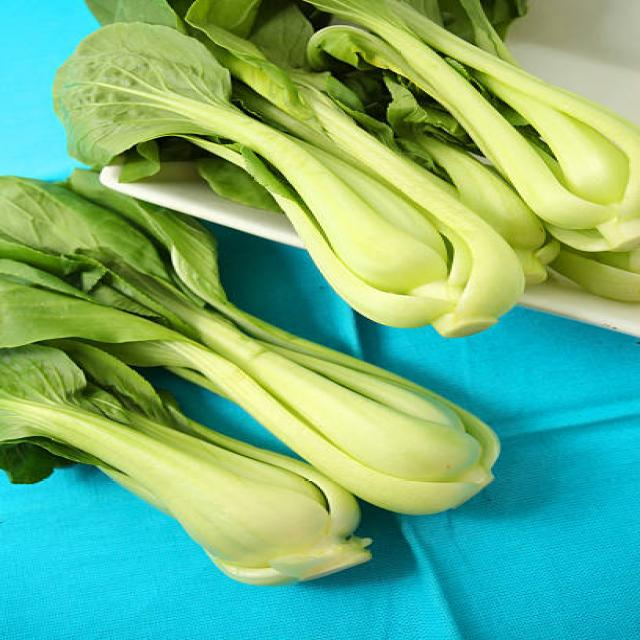Bok Choy: (209, 43, 482, 350), (228, 330, 599, 537), (0, 435, 383, 589), (520, 25, 640, 251)
